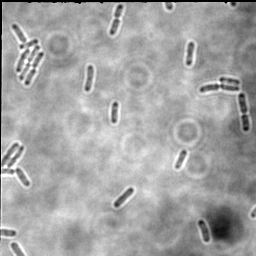Dividing: (107, 3, 126, 37), (1, 141, 22, 168), (236, 93, 250, 133), (199, 82, 241, 95), (6, 145, 26, 169)
Microcolony: (11, 24, 46, 87)
Rod: (112, 185, 135, 210), (196, 218, 212, 244), (183, 40, 197, 68), (83, 64, 96, 94), (14, 166, 31, 188), (173, 148, 188, 171), (218, 75, 242, 86), (109, 101, 120, 125)
